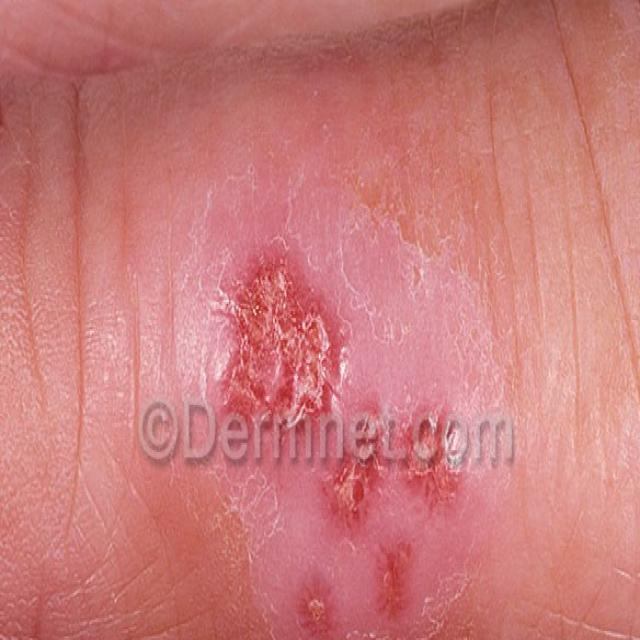Viral Infections: (166, 162, 528, 640)
